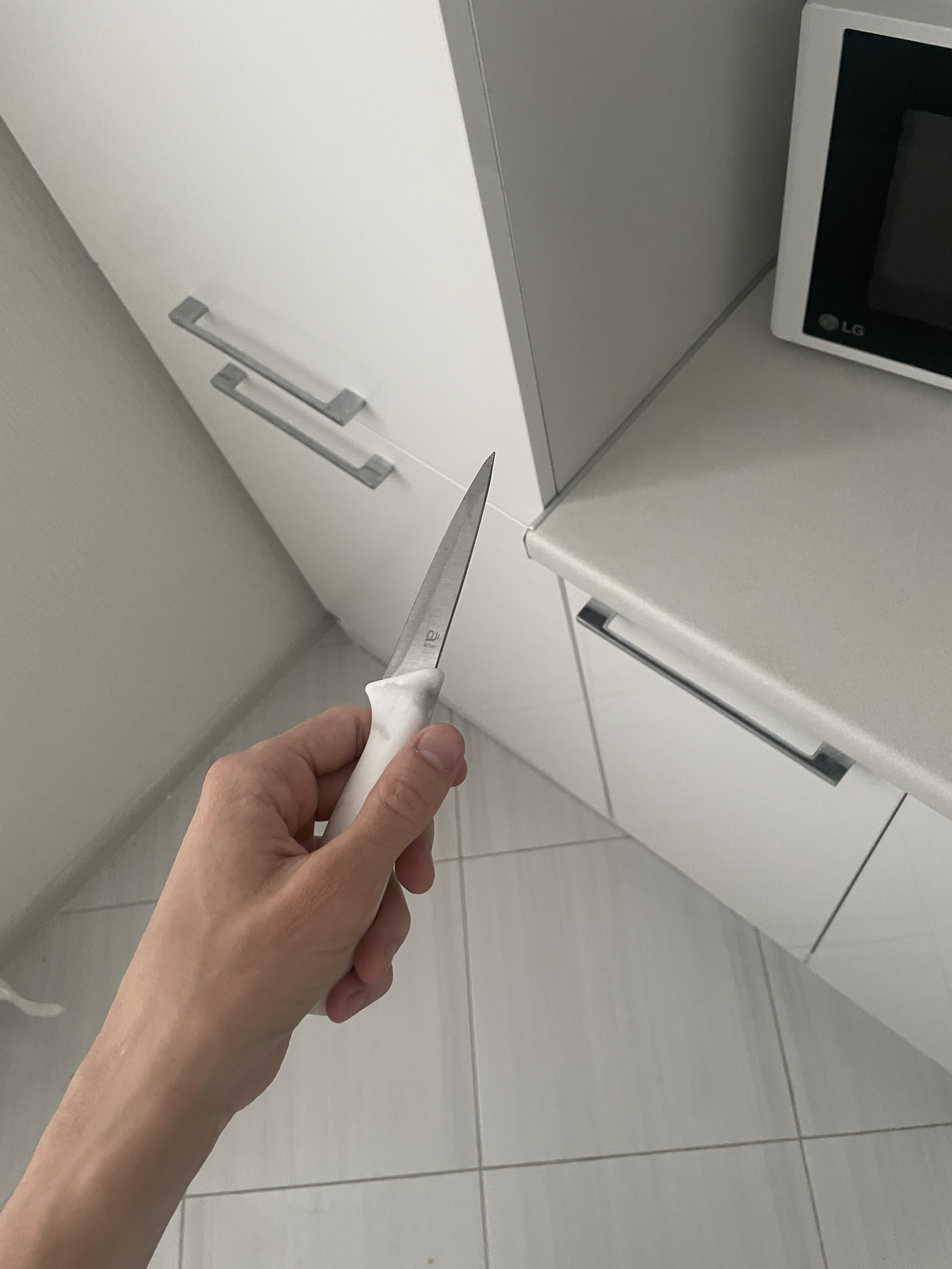knife: (317, 453, 495, 846)
